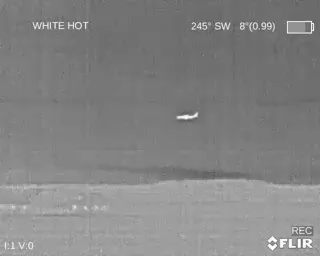AIRPLANE: (174, 110, 200, 122)
